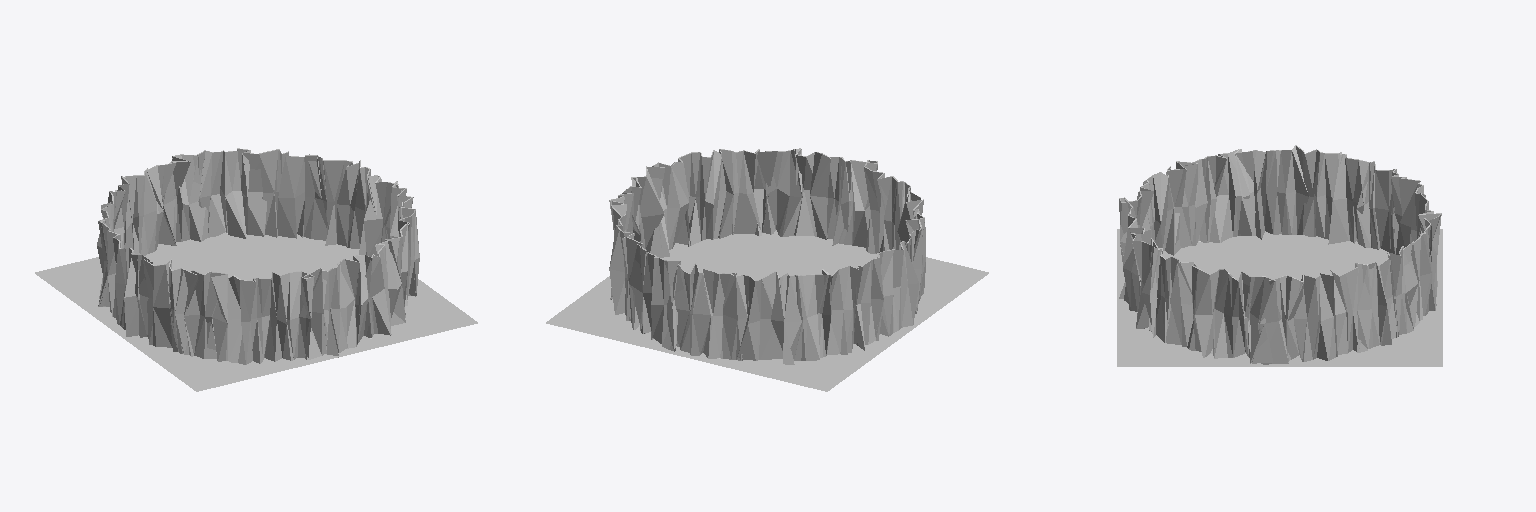
Rendered from arena.obj.
The picture shows the model from 3 angles: view 1: azimuth 30°, elevation 25°; view 2: azimuth 150°, elevation 25°; view 3: azimuth 270°, elevation 25°; orthographic projection.
Visible parts, largest first — view 1: Cylinder_Cylinder.004, Plane_Plane.002; view 2: Cylinder_Cylinder.004, Plane_Plane.002; view 3: Cylinder_Cylinder.004, Plane_Plane.002.
Boxes of the visible parts, box(x1,y1,x2,y2) form: Cylinder_Cylinder.004: box(97, 148, 419, 364); Plane_Plane.002: box(35, 232, 477, 391); Cylinder_Cylinder.004: box(609, 148, 925, 364); Plane_Plane.002: box(546, 230, 988, 391); Cylinder_Cylinder.004: box(1119, 145, 1441, 364); Plane_Plane.002: box(1117, 229, 1442, 366).
Size of the model in its own units: 140 by 43.12 by 140.